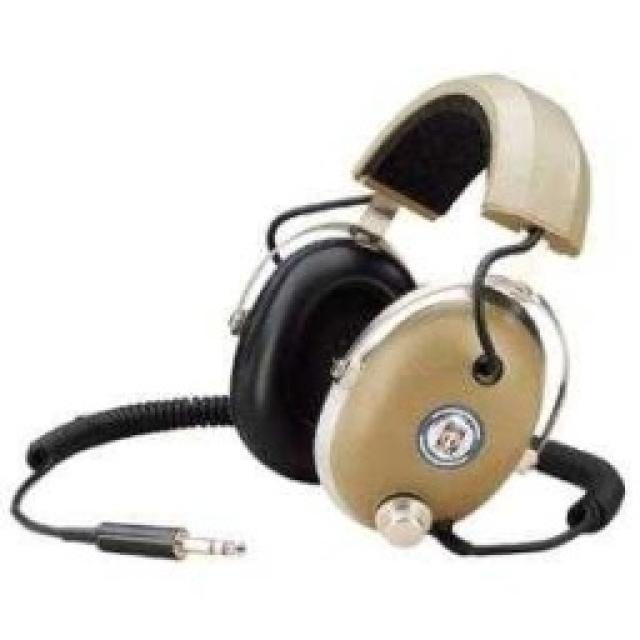headphones: (7, 70, 625, 562)
